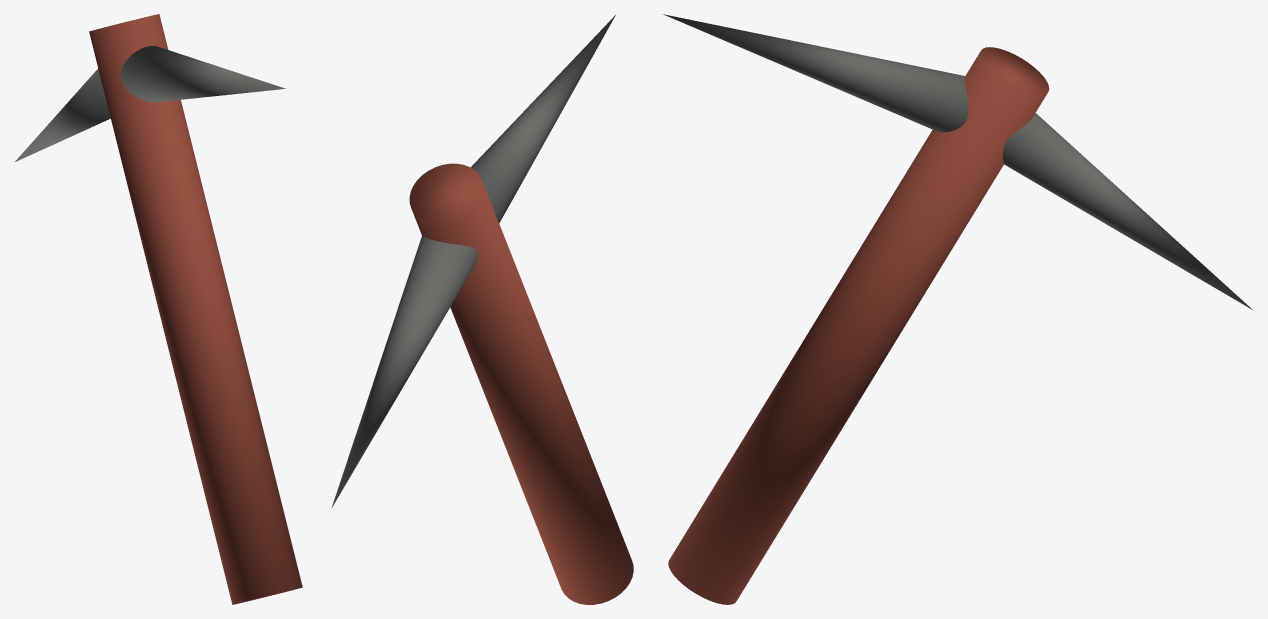
The model's file is Obj_Item.fbx.
3 renders of one model, left to right at view 1: azimuth 30°, elevation 25°; view 2: azimuth 150°, elevation 25°; view 3: azimuth 270°, elevation 25°, orthographic. The views are drawn at different scales.
Parts seen in each view (by area): view 1: Cube; view 2: Cube; view 3: Cube.
Part boxes in pixels (<box>): Cube: <box>15,14,302,604</box>; Cube: <box>331,15,633,604</box>; Cube: <box>662,14,1253,604</box>.
Bounding box in the file's own units: 2.02 × 2.2 × 0.2702.
